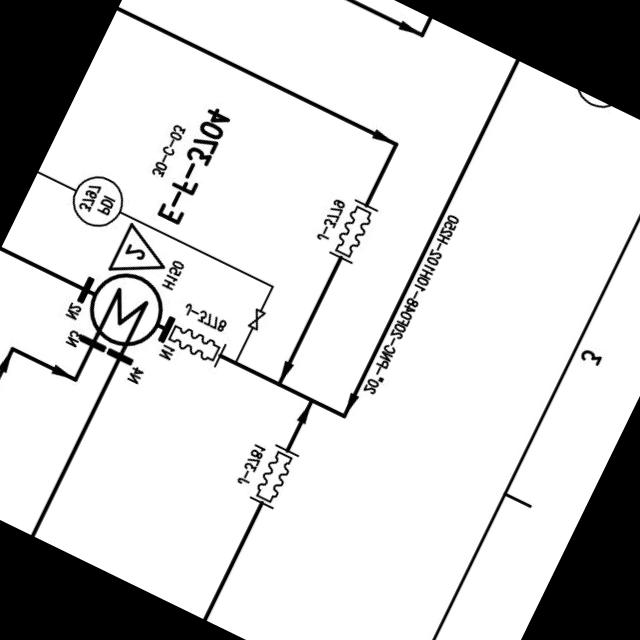EJ: (242, 439, 302, 515), (157, 314, 232, 374), (323, 196, 382, 270)
GV: (242, 304, 268, 336)
HE: (76, 260, 174, 358)
